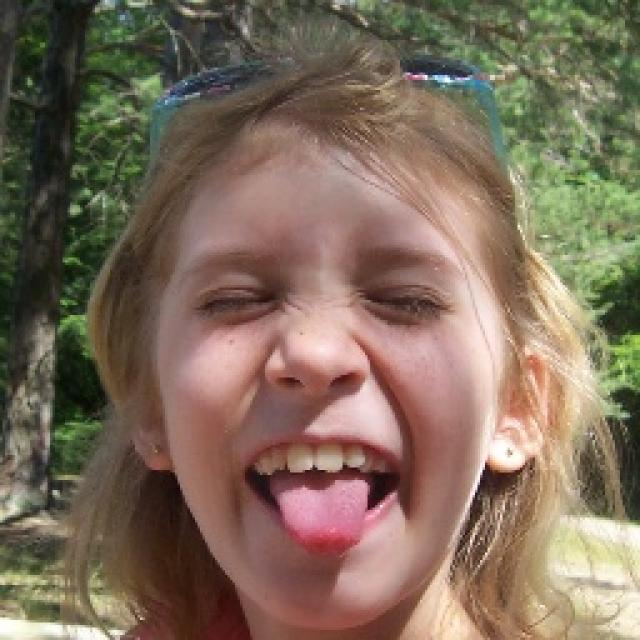earlobe: (128, 416, 173, 473), (485, 424, 528, 476)
eye: (367, 282, 454, 321), (198, 286, 272, 320)
nose: (263, 362, 377, 430)
wholeear: (486, 344, 553, 476)
